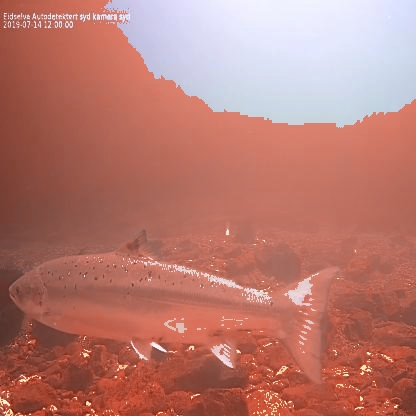salmon: (8, 227, 341, 388)
